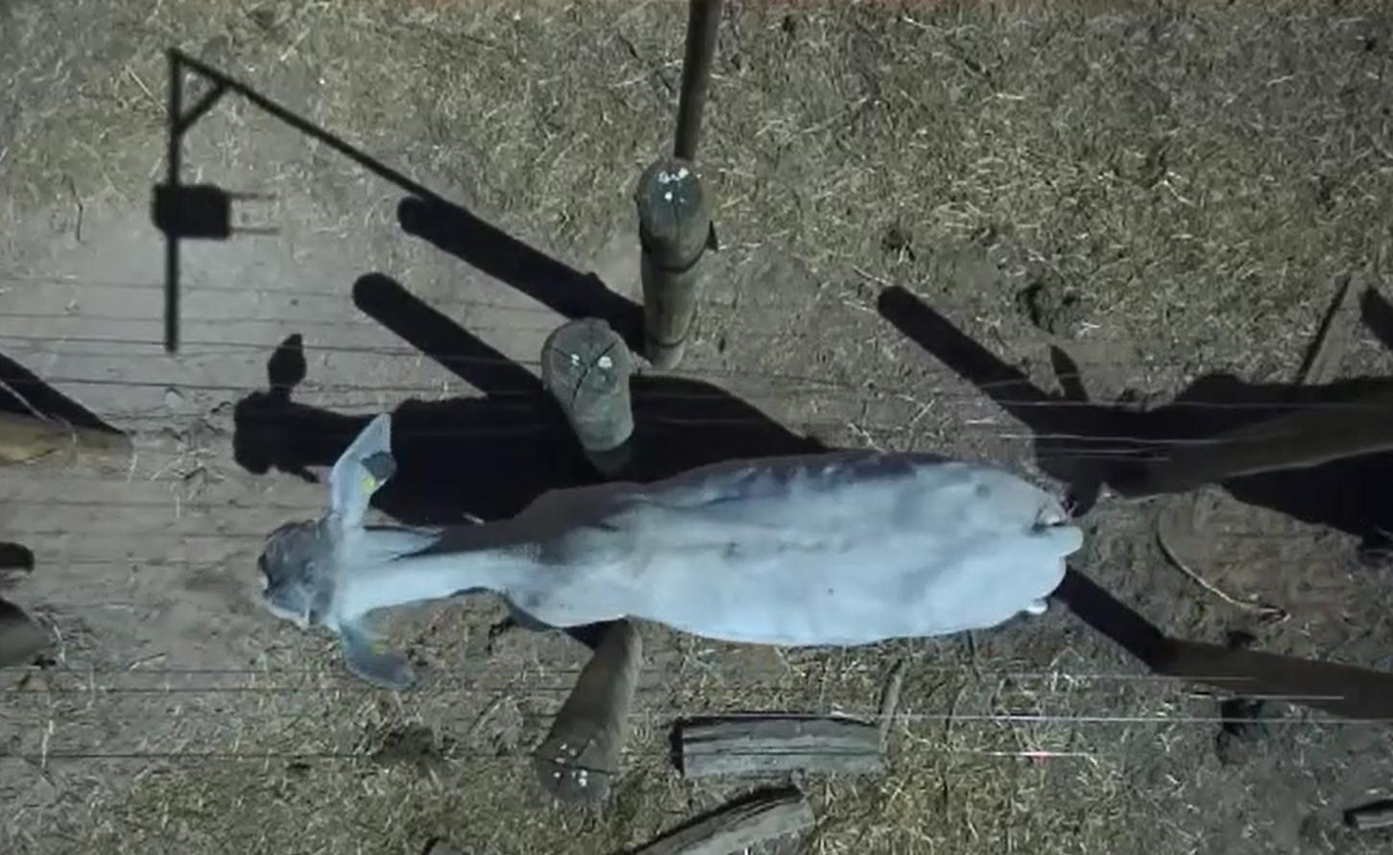cattle: (244, 403, 1097, 690)
